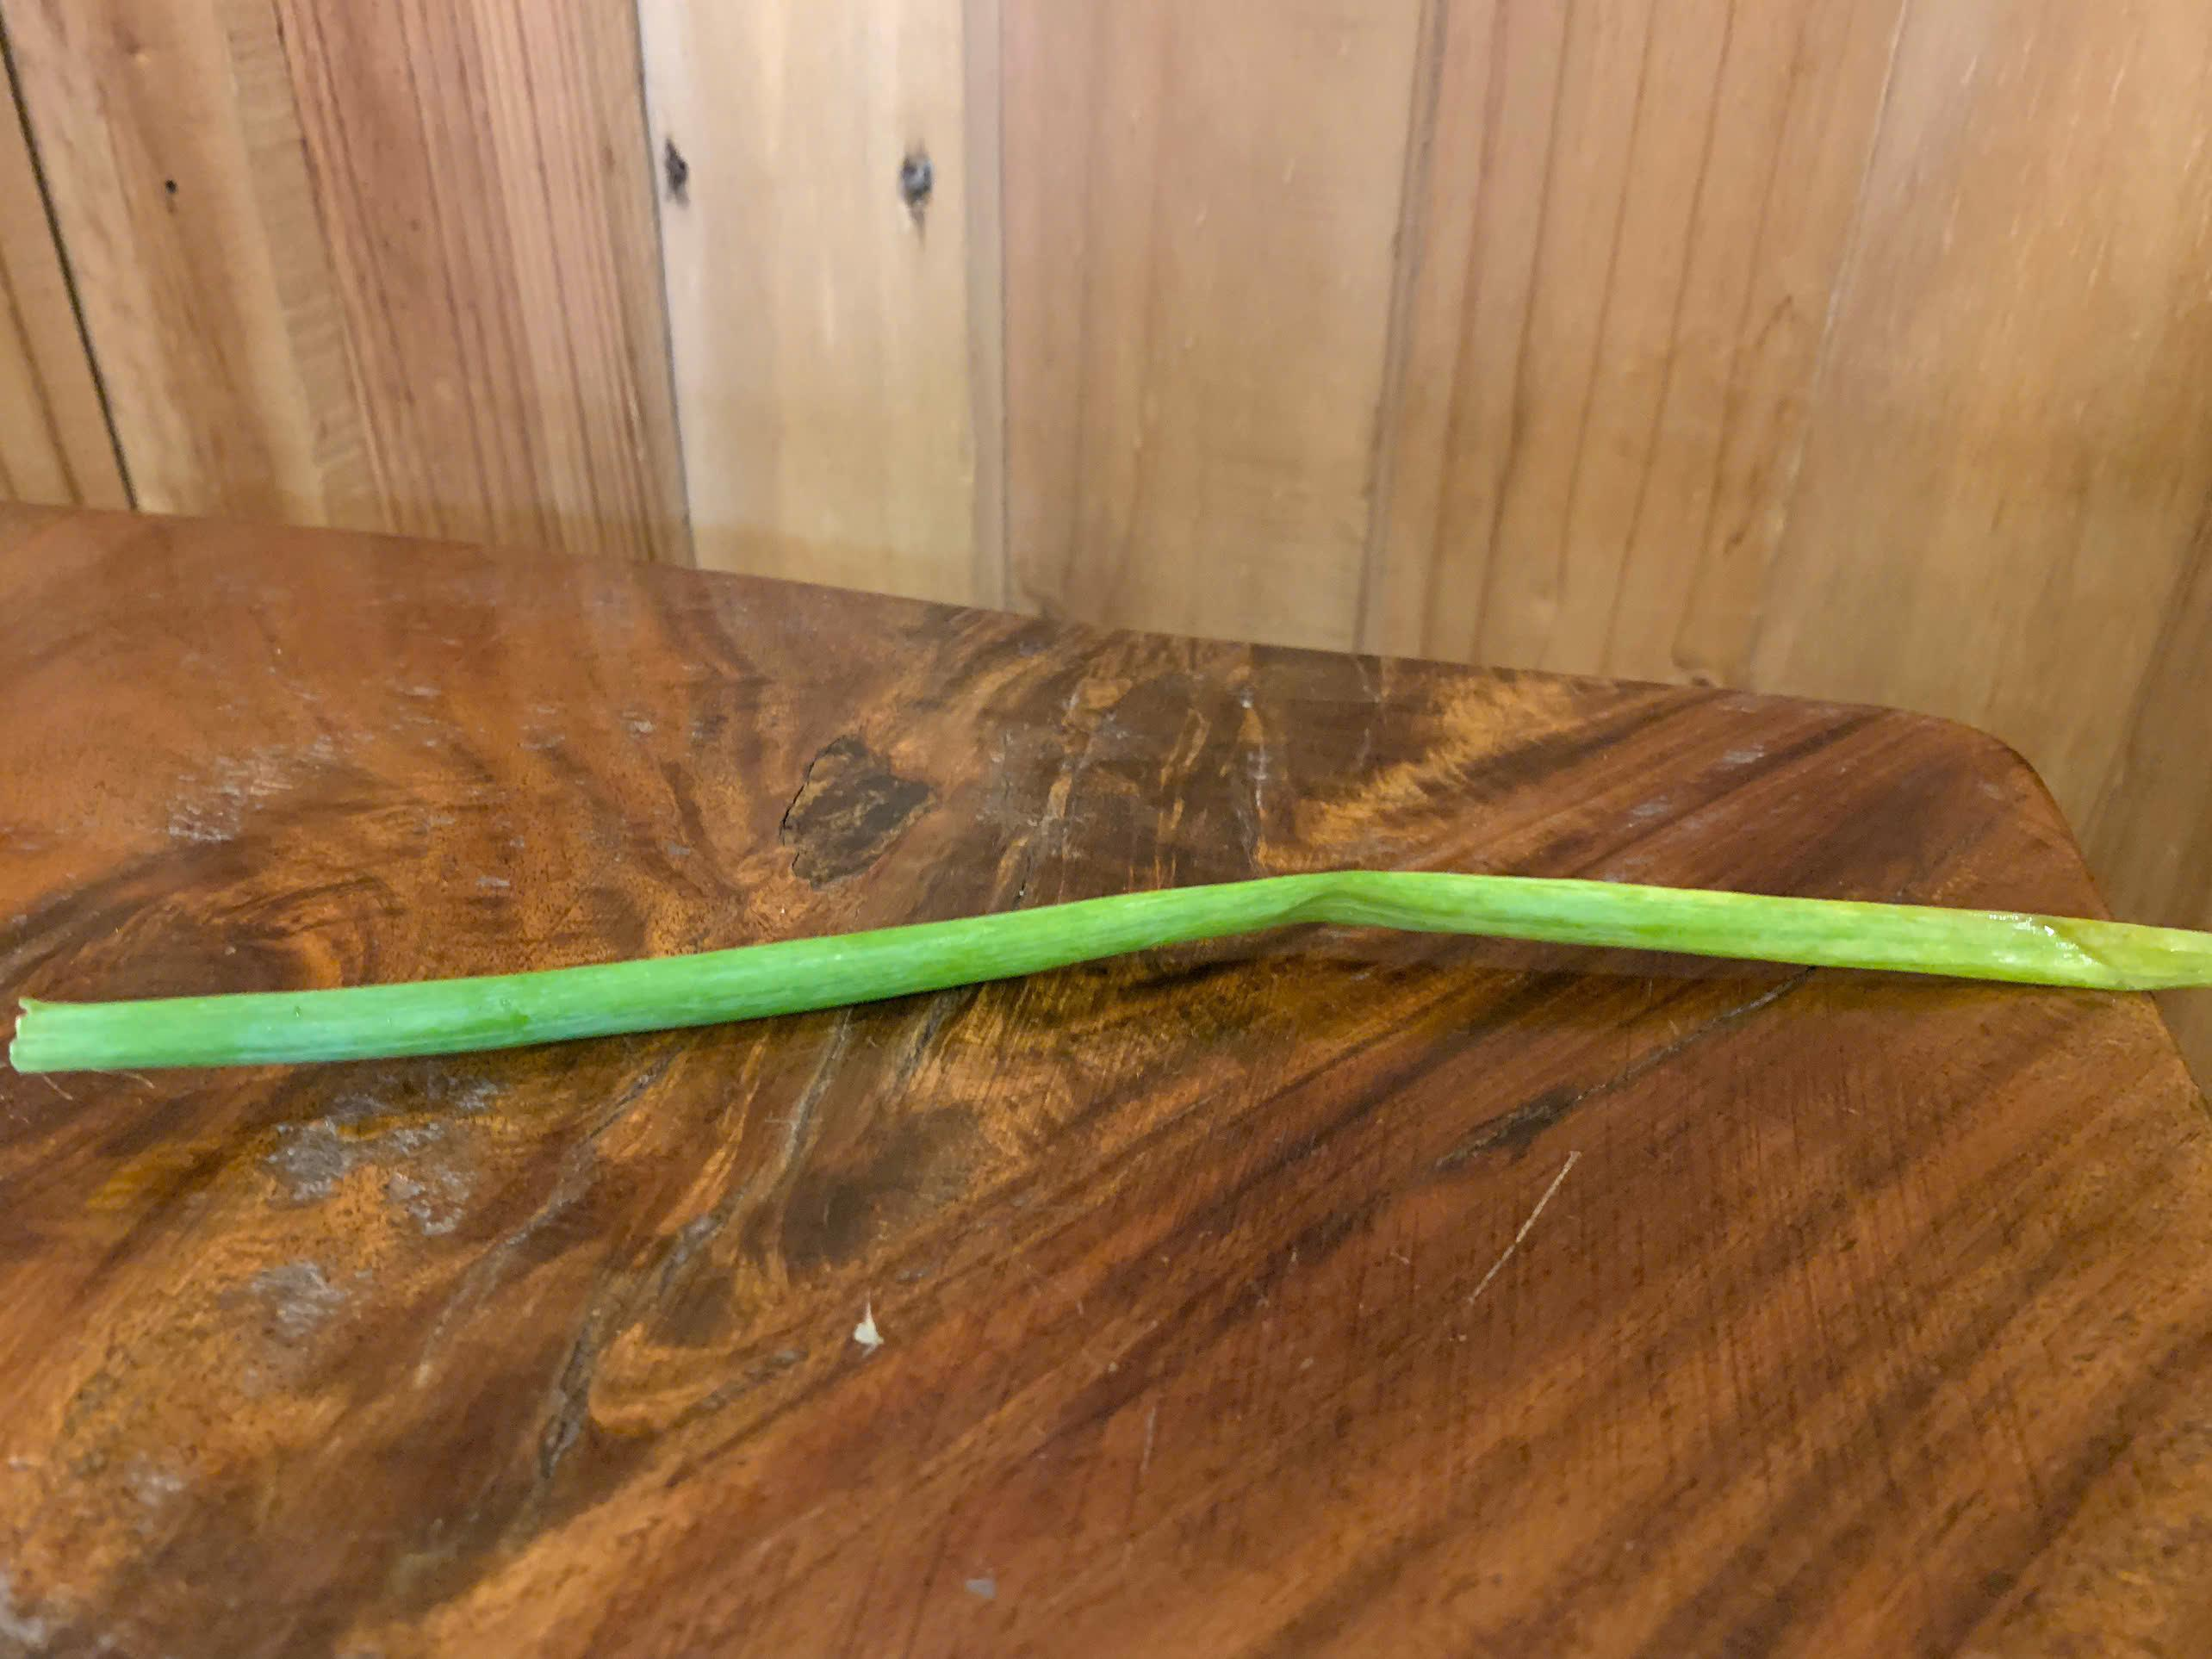Huu co: (15, 871, 2212, 1074)
